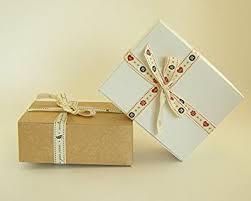Cardboard: (84, 16, 246, 160), (20, 82, 144, 177)
